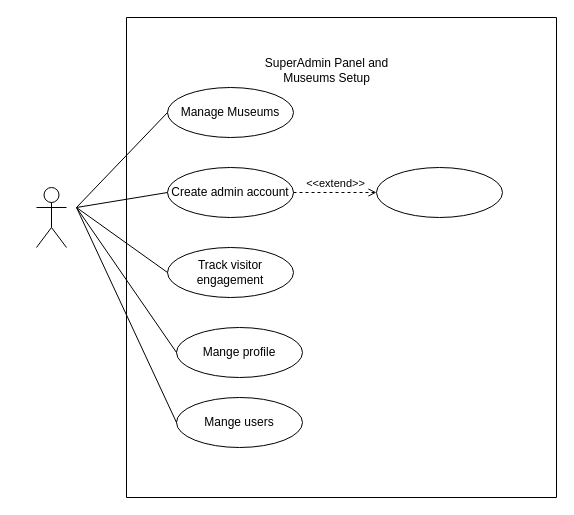
Image size: 574x515. Some labels were removed from this diagram. Here are the shapes that lost their labels. From the top down, the centre of each, then its label:
At point 439,192: "Assign admin to a museum".
At point 51,217: "Super admin".
